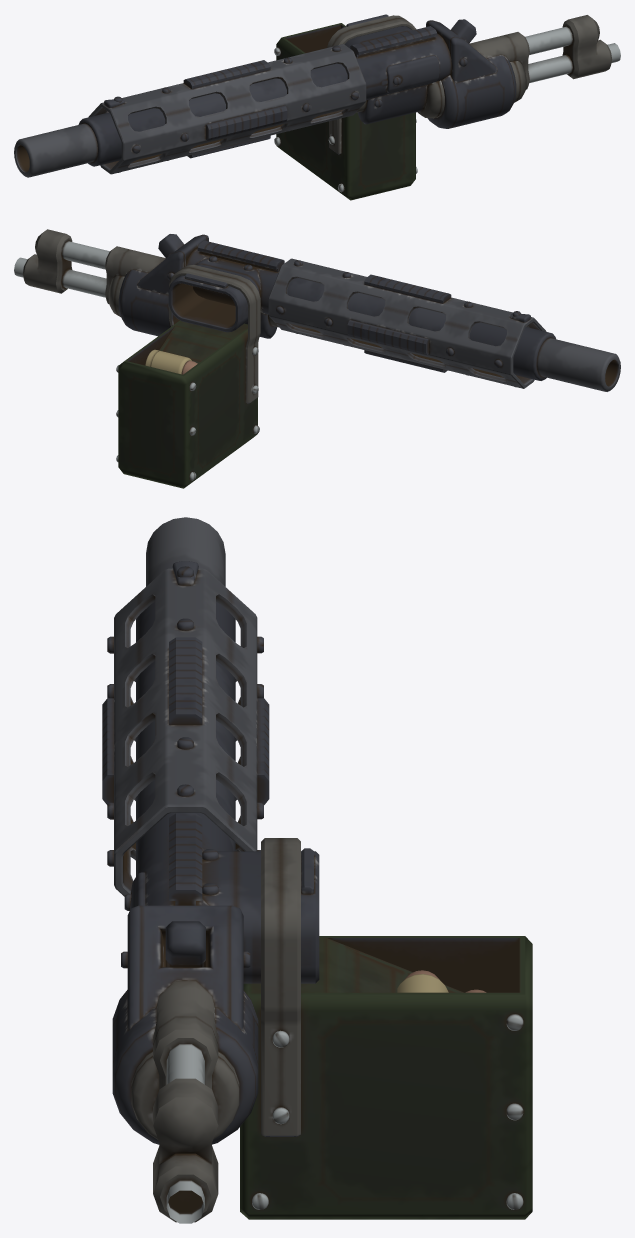
The model's file is R_lower_arm_gun_02_C1.fbx.
3 renders of one model, top to bottom at view 1: azimuth 30°, elevation 25°; view 2: azimuth 150°, elevation 25°; view 3: azimuth 270°, elevation 25°, orthographic. The views are drawn at different scales.
Parts seen in each view (by area): view 1: R_lower_arm_gun_02_C1, R_lower_arm_gun_02_C1_Eject, R_lower_arm_gun_02_C1_Hammer; view 2: R_lower_arm_gun_02_C1, R_lower_arm_gun_02_C1_Hammer; view 3: R_lower_arm_gun_02_C1, R_lower_arm_gun_02_C1_Hammer.
Part boxes in pixels (x1,y1,x2,y2): R_lower_arm_gun_02_C1: [14, 14, 620, 200]; R_lower_arm_gun_02_C1_Eject: [386, 55, 439, 92]; R_lower_arm_gun_02_C1_Hammer: [451, 19, 476, 43]; R_lower_arm_gun_02_C1: [14, 229, 620, 488]; R_lower_arm_gun_02_C1_Hammer: [158, 234, 184, 258]; R_lower_arm_gun_02_C1: [102, 517, 532, 1223]; R_lower_arm_gun_02_C1_Hammer: [165, 921, 205, 967].
Size of the model in its own units: 115 by 32.33 by 36.1.
